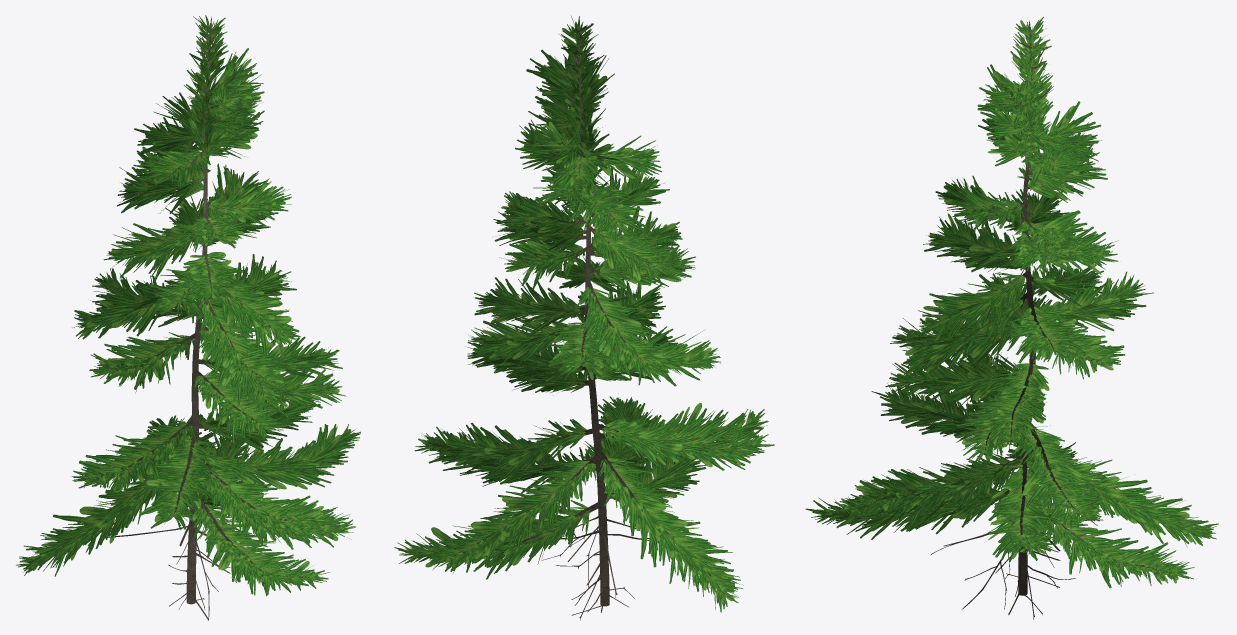
File: fir_tree_c.glb
The picture shows the model from 3 angles, left to right: view 1: azimuth 30°, elevation 25°; view 2: azimuth 150°, elevation 25°; view 3: azimuth 270°, elevation 25°; orthographic projection.
Visible parts, largest first — view 1: fir_tree_c; view 2: fir_tree_c; view 3: fir_tree_c.
Boxes of the visible parts, x1,y1,x2,y2 form: fir_tree_c: (16,15,360,620); fir_tree_c: (394,16,774,620); fir_tree_c: (805,17,1218,619).
Size of the model in its own units: 3.11 by 5.36 by 3.37.
Materials: 3 (3 with a texture image).
